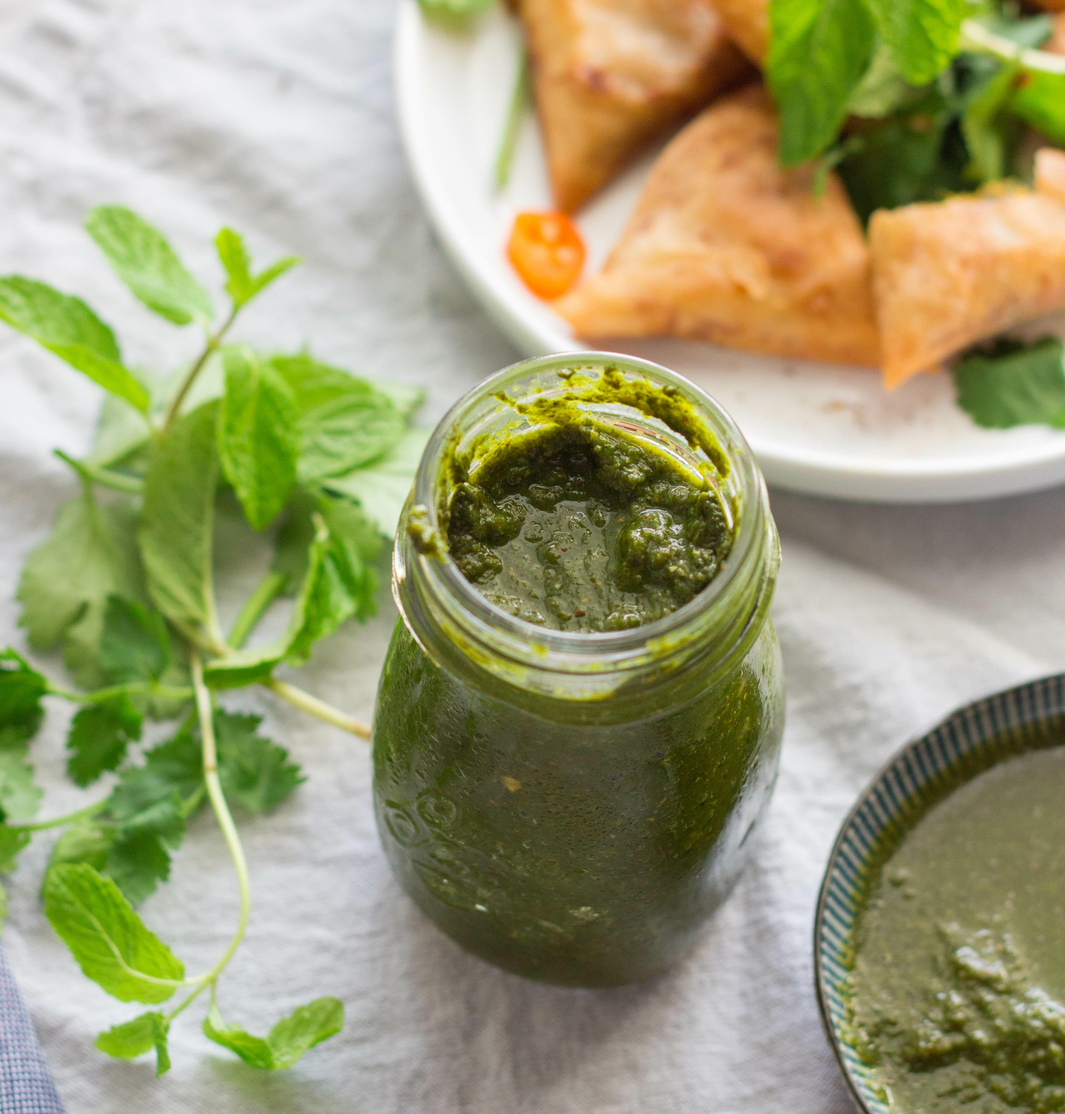GreenChutney: (849, 726, 1065, 1114), (445, 424, 728, 637)
